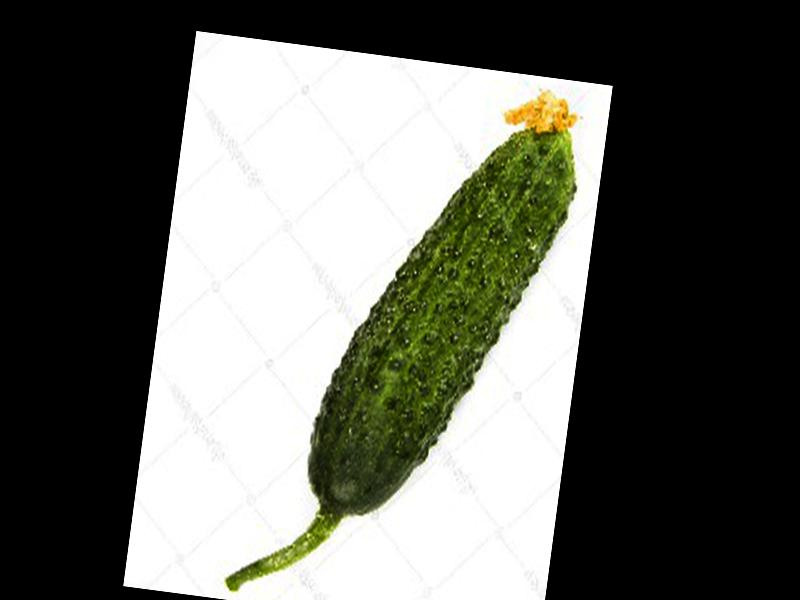Cucumber: (225, 56, 589, 600)
